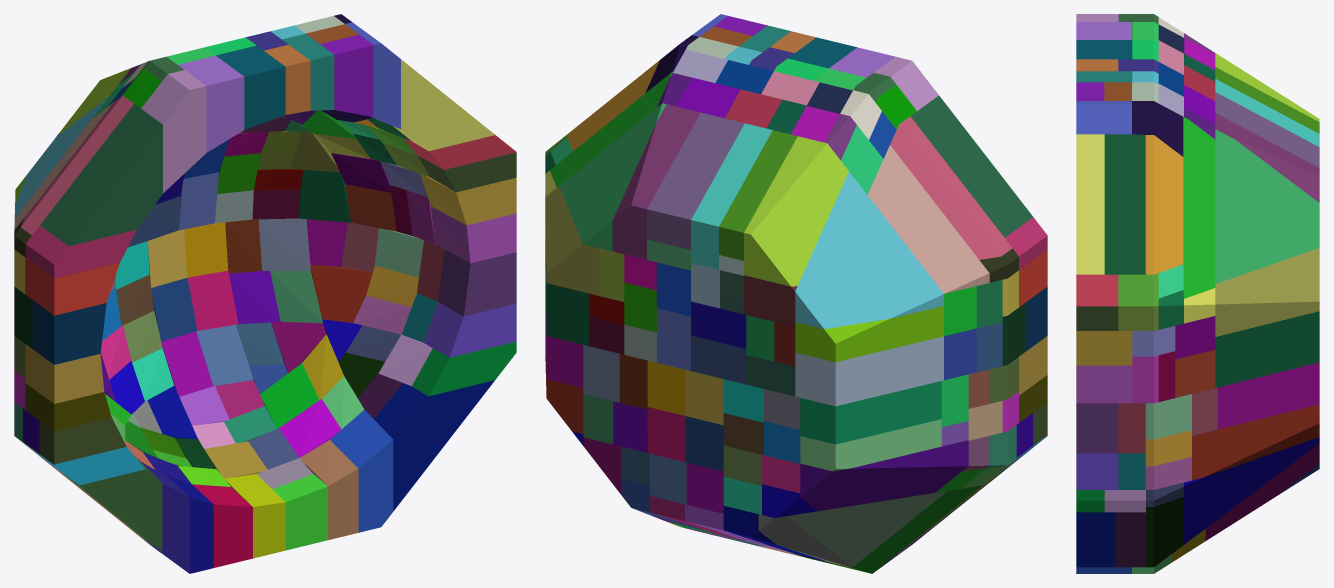
Rendered from mortar_coacd.obj.
The picture shows the model from 3 angles, left to right: view 1: azimuth 30°, elevation 25°; view 2: azimuth 150°, elevation 25°; view 3: azimuth 270°, elevation 25°; orthographic projection. The views are drawn at different scales.
Visible parts, largest first — view 1: geometry_155, geometry_139, geometry_73, geometry_133, geometry_159, geometry_79, geometry_19, geometry_83, geometry_169, geometry_40, geometry_86, geometry_156 (+93 smaller); view 2: geometry_2, geometry_34, geometry_158, geometry_27, geometry_6, geometry_1, geometry_10, geometry_155, geometry_53, geometry_164, geometry_28, geometry_0 (+94 smaller); view 3: geometry_10, geometry_123, geometry_101, geometry_97, geometry_130, geometry_15, geometry_75, geometry_5, geometry_14, geometry_159, geometry_28, geometry_1 (+58 smaller).
Part boxes in pixels (x1=…): geometry_155: x1=40, y1=103, x2=162, y2=246; geometry_139: x1=374, y1=380, x2=494, y2=511; geometry_73: x1=141, y1=70, x2=206, y2=193; geometry_133: x1=330, y1=410, x2=393, y2=532; geometry_159: x1=393, y1=59, x2=494, y2=150; geometry_79: x1=438, y1=250, x2=516, y2=316; geometry_19: x1=61, y1=459, x2=162, y2=551; geometry_83: x1=423, y1=302, x2=516, y2=357; geometry_169: x1=32, y1=300, x2=106, y2=364; geometry_40: x1=178, y1=55, x2=244, y2=152; geometry_86: x1=25, y1=257, x2=119, y2=315; geometry_156: x1=25, y1=225, x2=136, y2=278; geometry_2: x1=795, y1=171, x2=943, y2=328; geometry_34: x1=744, y1=136, x2=848, y2=286; geometry_158: x1=867, y1=145, x2=989, y2=293; geometry_27: x1=800, y1=440, x2=968, y2=511; geometry_6: x1=795, y1=336, x2=943, y2=406; geometry_1: x1=647, y1=112, x2=744, y2=249; geometry_10: x1=559, y1=103, x2=666, y2=251; geometry_155: x1=910, y1=95, x2=1032, y2=237; geometry_53: x1=800, y1=381, x2=941, y2=444; geometry_164: x1=890, y1=116, x2=1012, y2=259; geometry_28: x1=612, y1=104, x2=700, y2=259; geometry_0: x1=786, y1=491, x2=947, y2=566; geometry_10: x1=1215, y1=129, x2=1319, y2=283; geometry_123: x1=1215, y1=248, x2=1319, y2=336; geometry_101: x1=1104, y1=134, x2=1145, y2=274; geometry_97: x1=1183, y1=117, x2=1215, y2=298; geometry_130: x1=1215, y1=311, x2=1319, y2=387; geometry_15: x1=1192, y1=404, x2=1319, y2=480; geometry_75: x1=1145, y1=135, x2=1183, y2=274; geometry_5: x1=1184, y1=437, x2=1319, y2=544; geometry_14: x1=1217, y1=362, x2=1319, y2=429; geometry_159: x1=1076, y1=134, x2=1104, y2=274; geometry_28: x1=1215, y1=113, x2=1319, y2=202; geometry_1: x1=1215, y1=92, x2=1319, y2=167.
Bounding box in the file's own units: 0.1 × 0.1 × 0.047.
